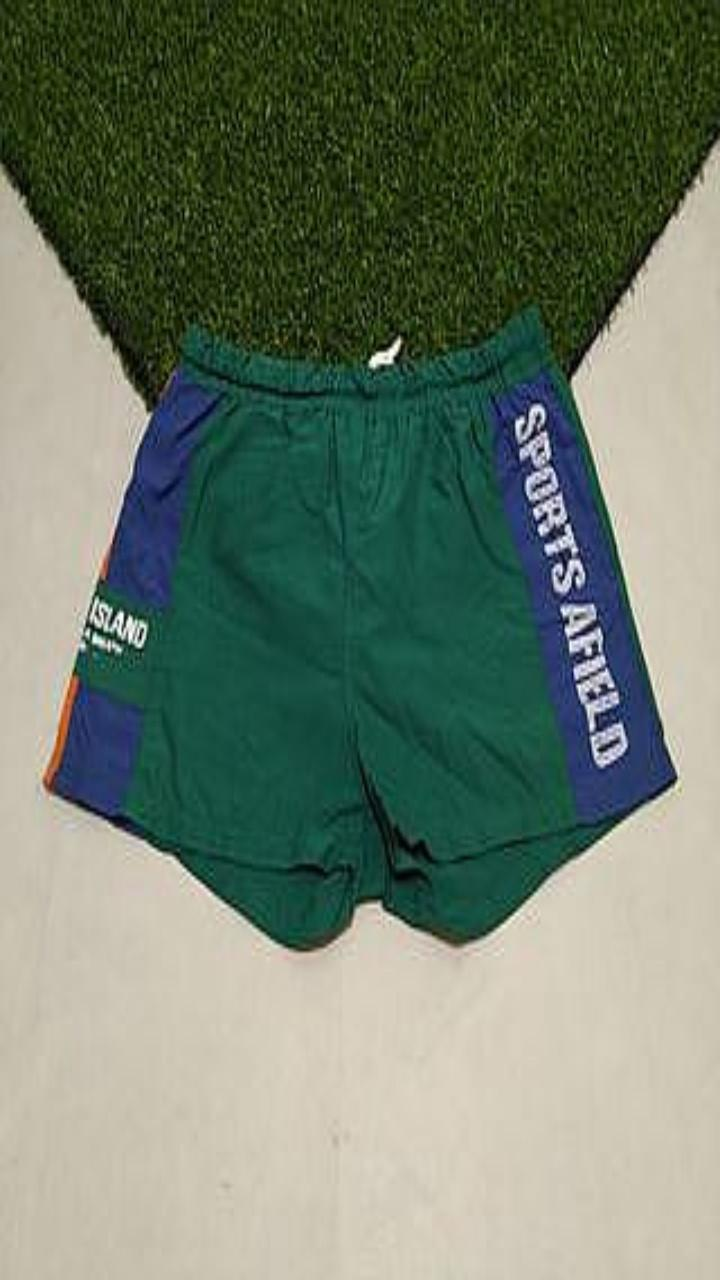Shorts: (43, 307, 674, 946)
